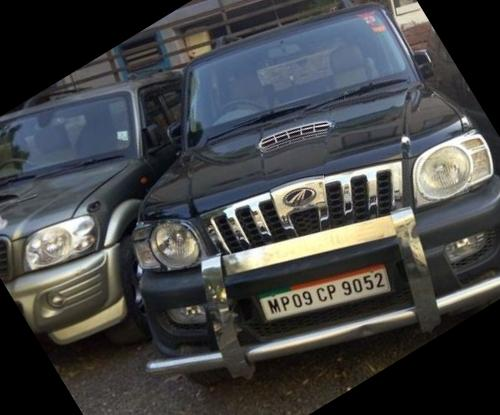plate: (242, 204, 430, 377)
